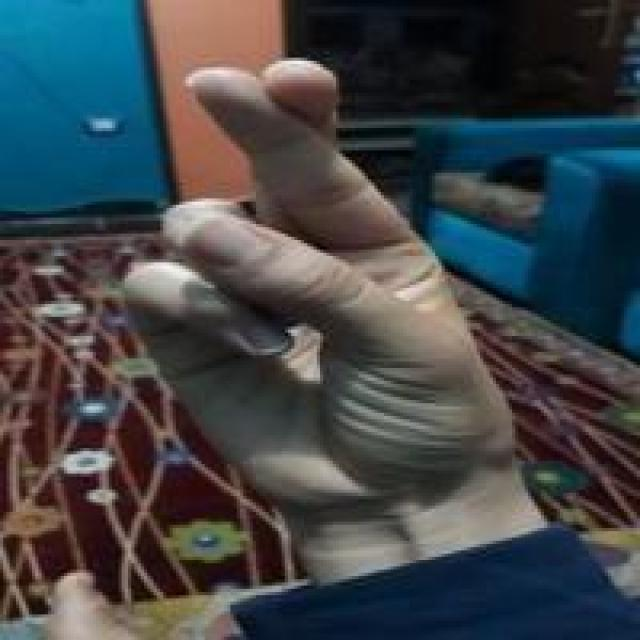R: (114, 51, 520, 502)
